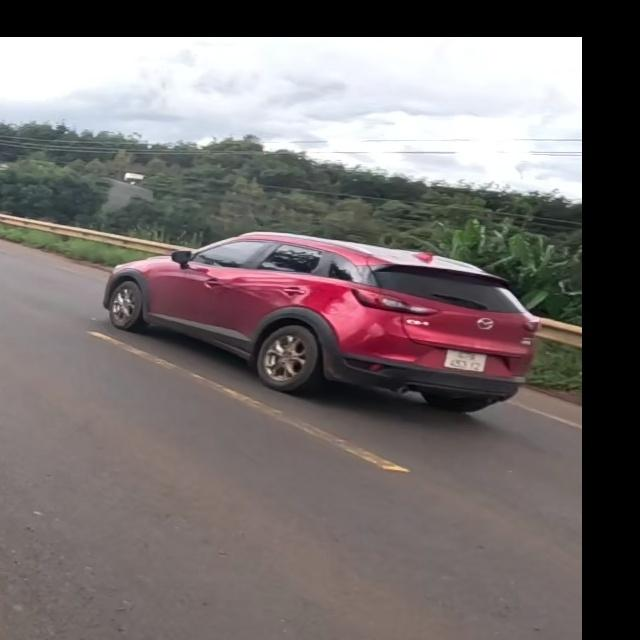license-plate: (443, 349, 488, 374)
